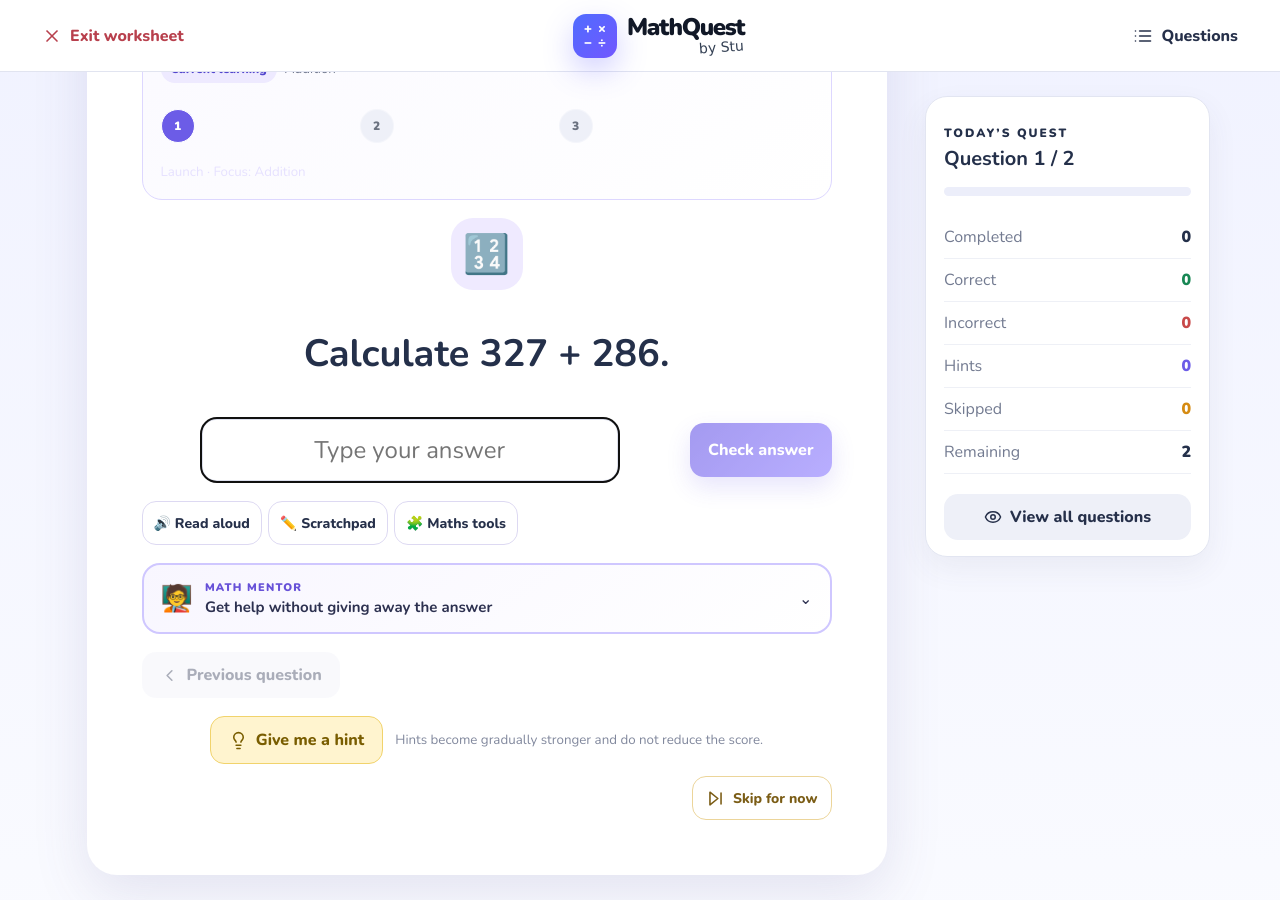
Test case: v0.38 iPad landscape answer feedback › uses the same feedback experience for Story Adventure questions
(page scrolled)
Type "613" into the field labelled "your answer" at (410,450), box x1=200 y1=417 x2=620 y2=483
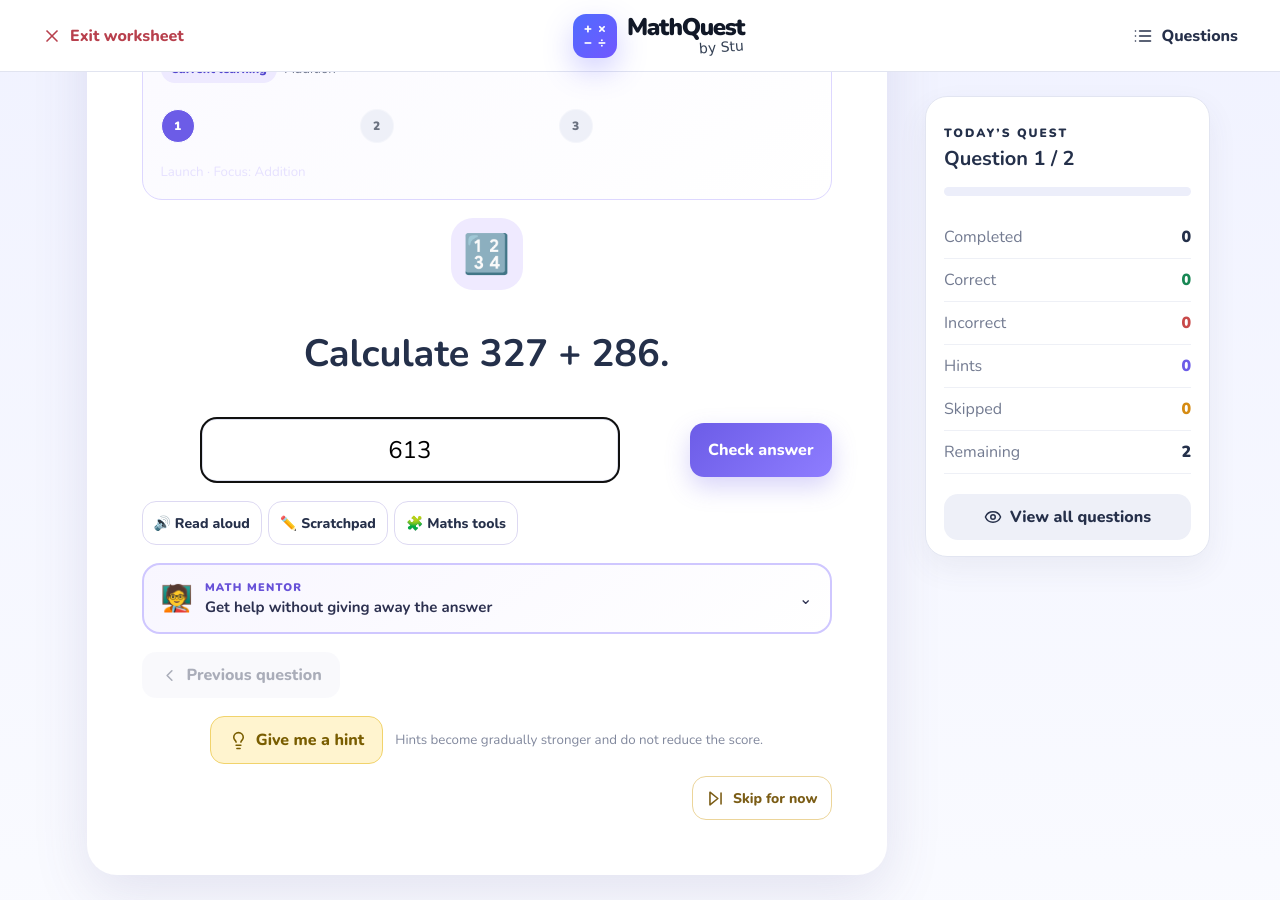
Press Enter in the field named "your answer", box x1=200 y1=417 x2=620 y2=483
(page scrolled)
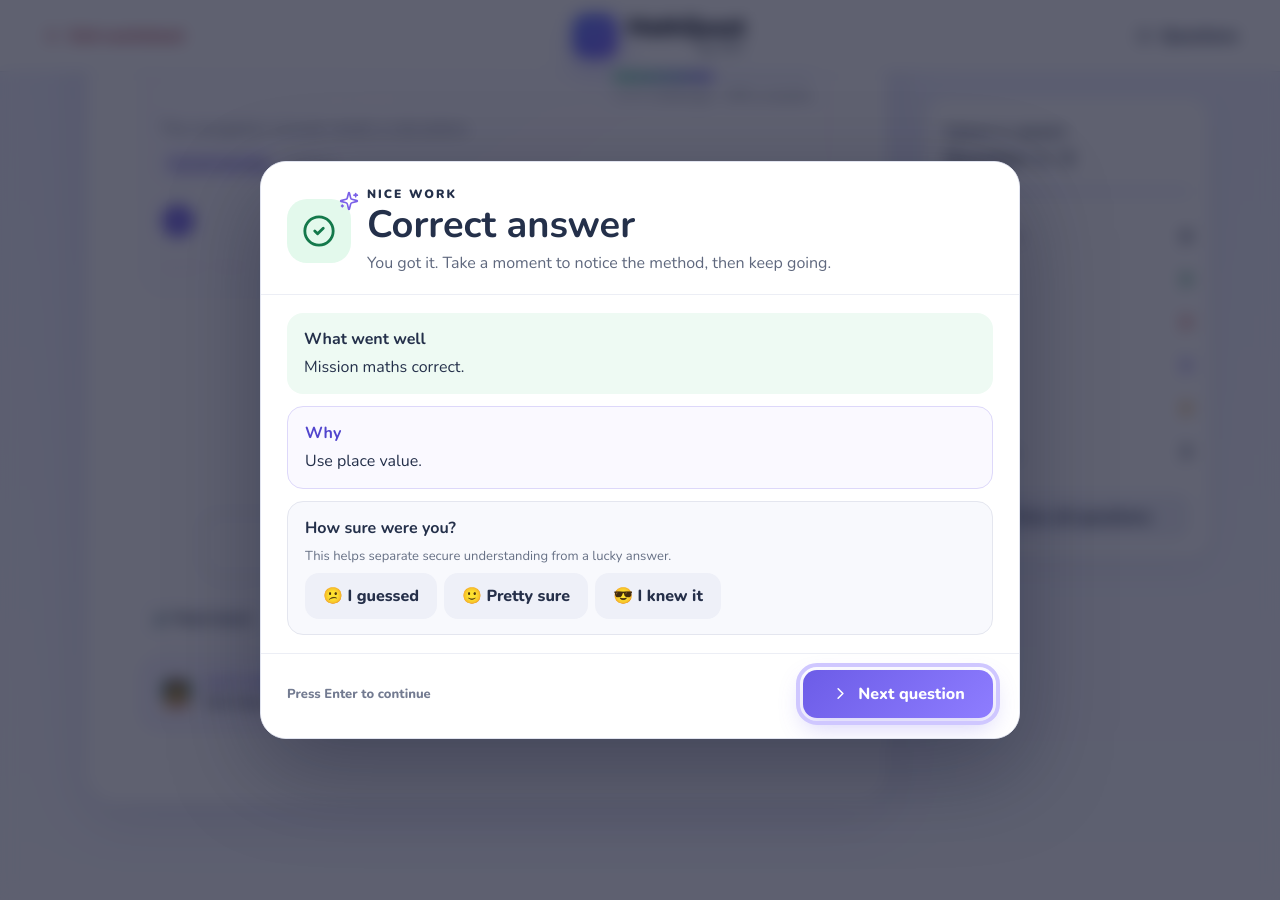
Expected: the dialog "Correct answer" is shown, x1=260 y1=162 x2=1020 y2=739
